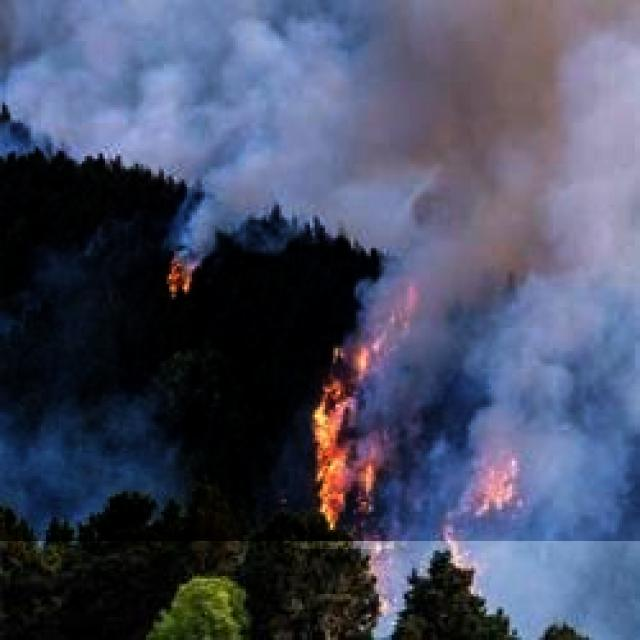Fire: (300, 364, 394, 549), (158, 245, 196, 302)
Smoke: (0, 0, 640, 541)
